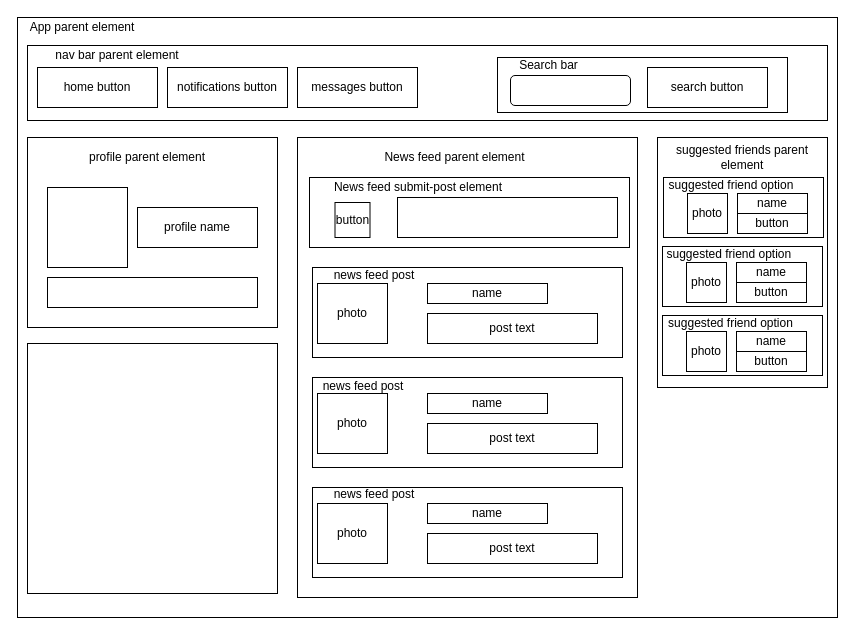
Some shapes in this 855 by 635 pixel diagram are drawn without their labels. The centre of each missing label's shape, as x and y in pixels:
"About element (contains text box)" belongs at point 152,468.
"navigation bar" belongs at point 152,292.
"profile photo" belongs at point 87,227.
"text input box" belongs at point 570,90.
"text input box for writing post" belongs at point 507,217.
